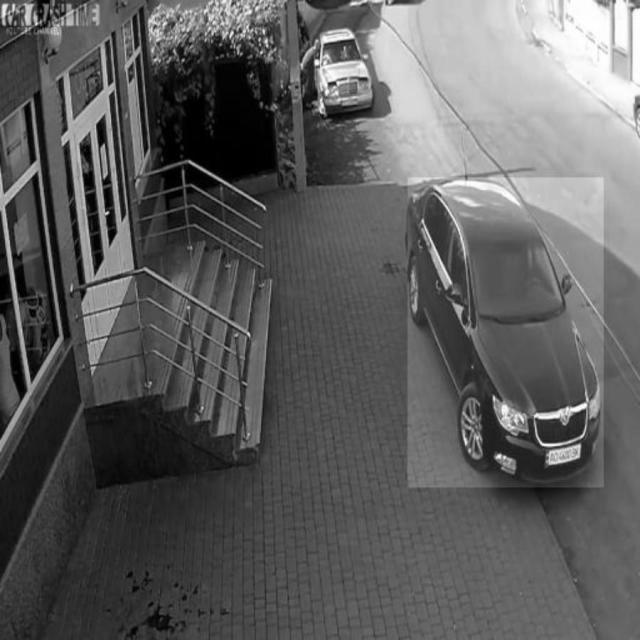vehicle: (408, 178, 604, 488), (315, 26, 371, 108)
